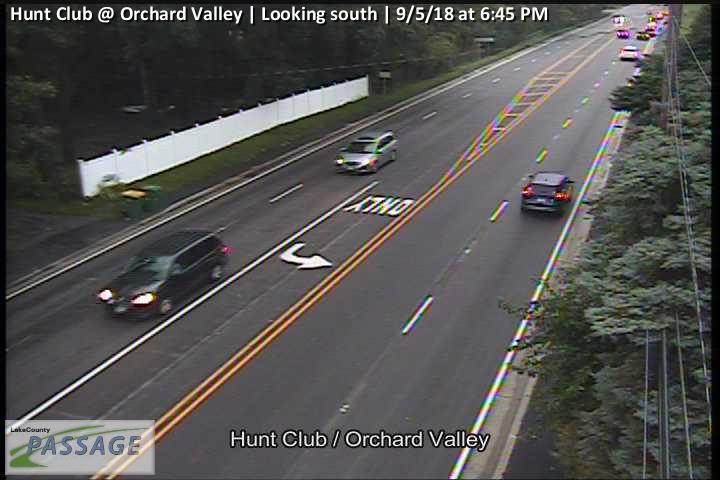SUV: (99, 231, 227, 321), (334, 130, 398, 174), (520, 172, 575, 218), (621, 46, 640, 59)
